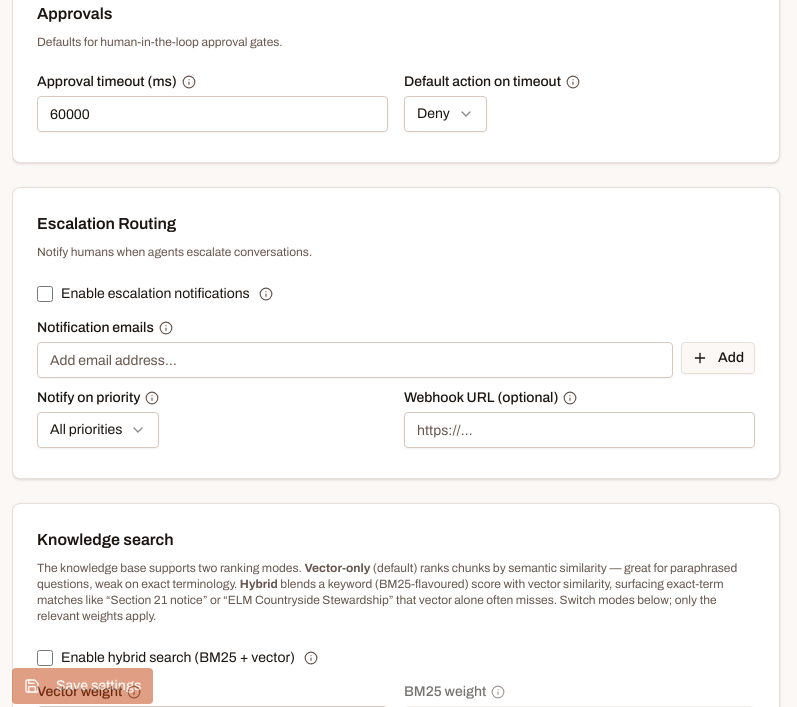
SettingsForm › Escalation section › adds email when Enter key is pressed in email input
(page scrolled)
// type email and press Enter
In the field with placeholder "Add email address…": (355, 360) [37,342,673,378], type "enter@example.com"
Then press Enter
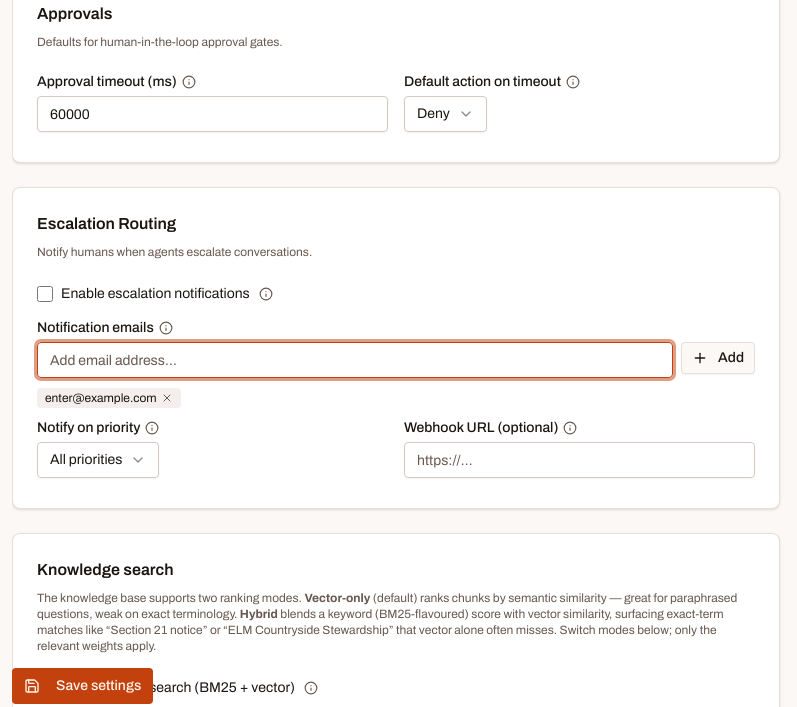
Result: the text "enter@example.com" is shown at [37,388,181,408]
